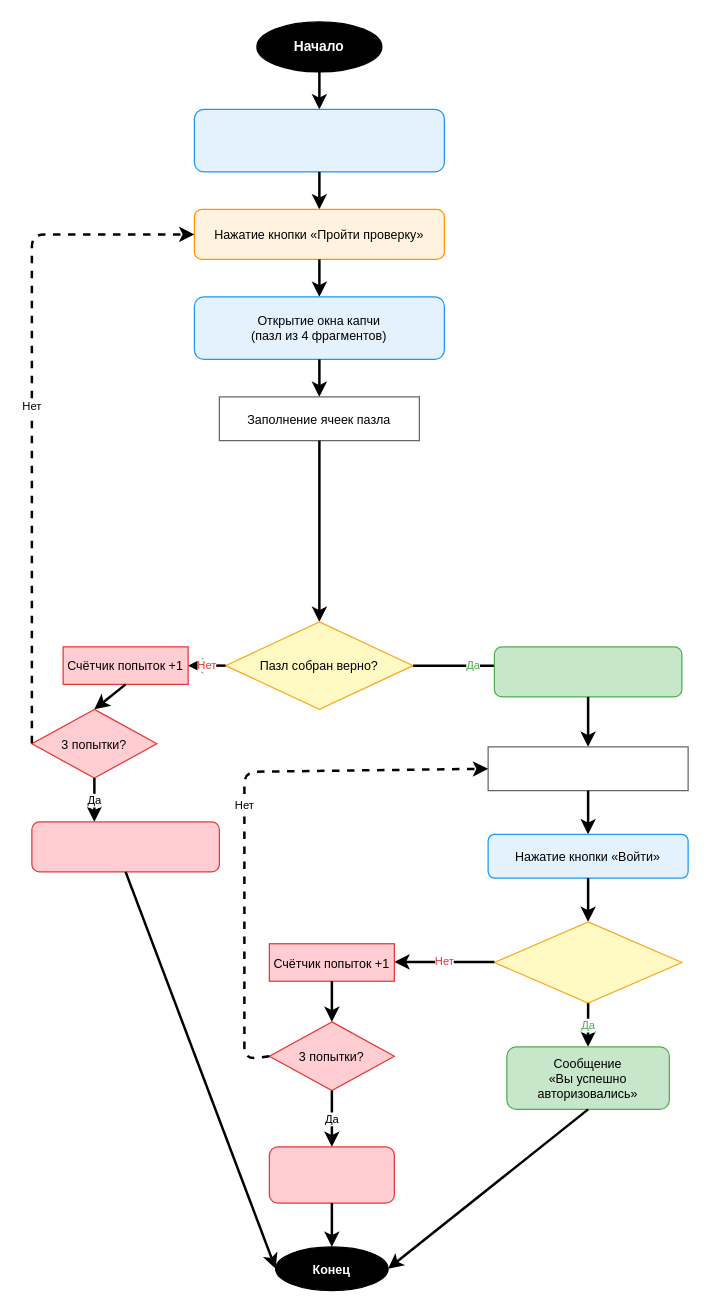
This 710x1313 diagram has some shape labels left out. Here are the shapes that lost their labels. From the top down, the centre of each, then its label:
At pixel 318 140: "Открытие окна авторизации (поля логина и пароля неактивны)".
At pixel 587 671: "Активация полей логина и пароля".
At pixel 587 768: "Ввод логина и пароля".
At pixel 125 846: "Вывод сообщения «Слишком много попыток»".
At pixel 587 962: "Логин/пароль верны?".
At pixel 331 1174: "Сообщение «Неверный логин или пароль»".
